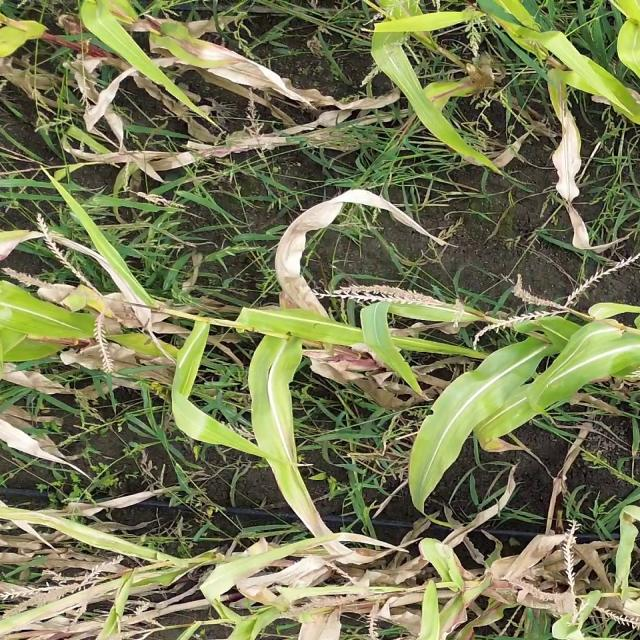northern-leaf-blight: (155, 31, 222, 64), (423, 80, 473, 106)
